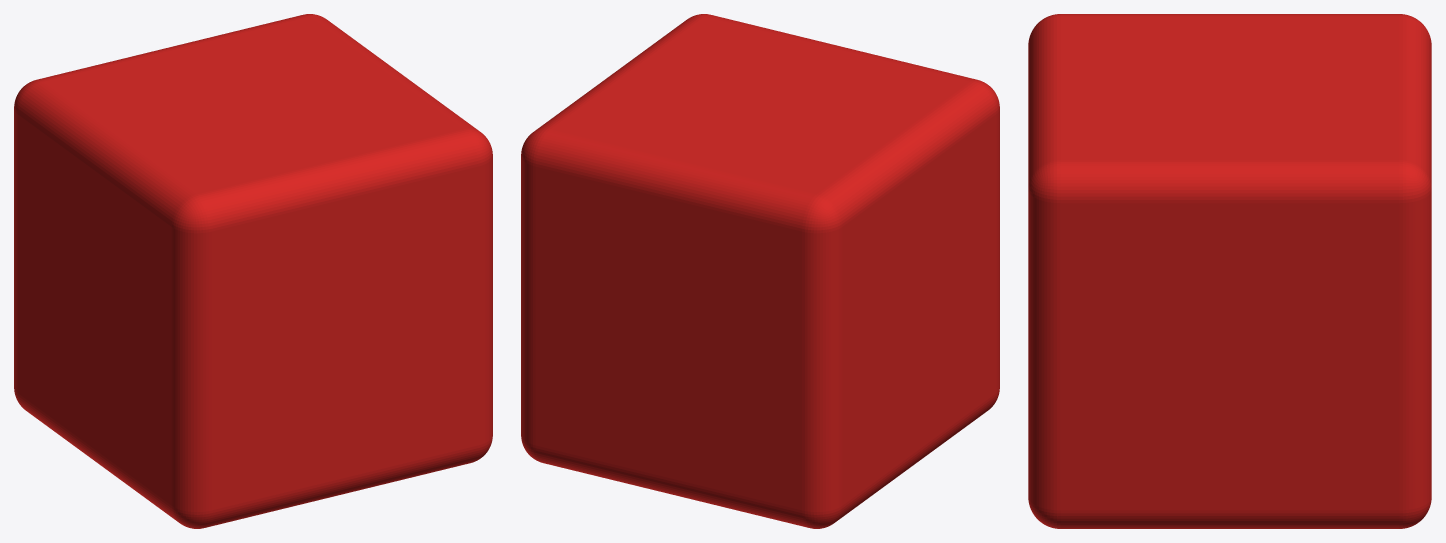
Rendered from Answer-Box.fbx.
3 views of the same model, side by side, from view 1: azimuth 30°, elevation 25°; view 2: azimuth 150°, elevation 25°; view 3: azimuth 270°, elevation 25° (orthographic). The views are drawn at different scales.
Visible parts, largest first — view 1: Cube; view 2: Cube; view 3: Cube.
Part boxes in pixels (left/top/right/bottom): Cube: left=14, top=14, right=492, bottom=528; Cube: left=521, top=14, right=999, bottom=528; Cube: left=1028, top=14, right=1431, bottom=528.
Bounding box in the file's own units: 170 × 170 × 170.
